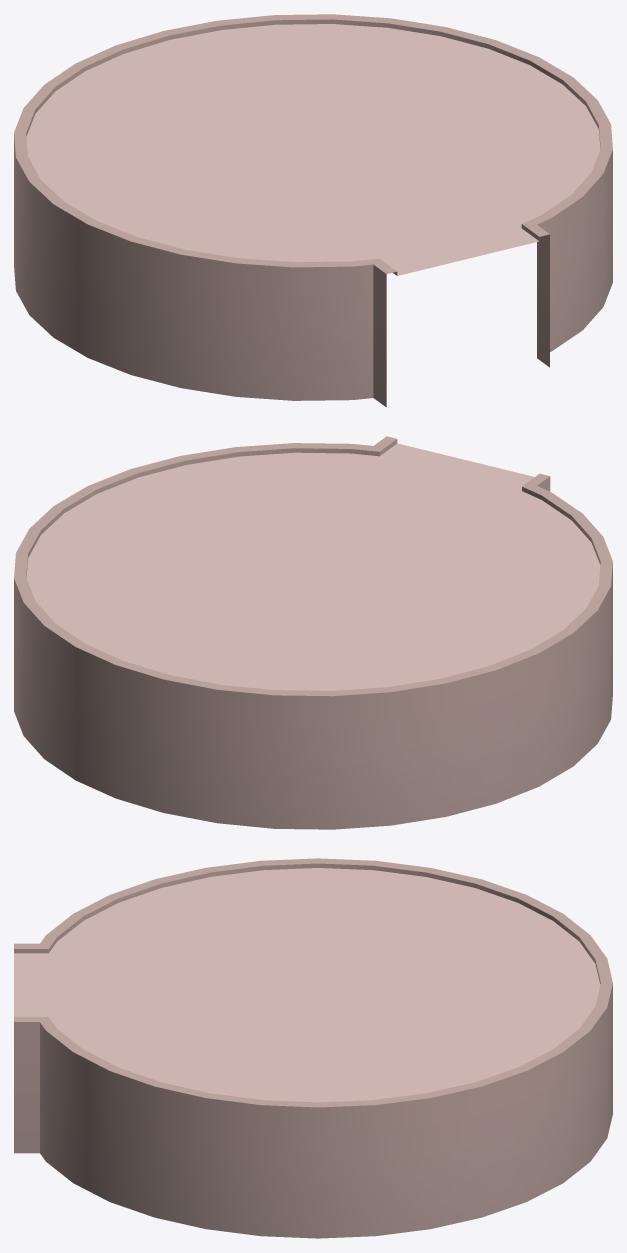
The model's file is Road_Arena.fbx.
The picture shows the model from 3 angles, top to bottom: view 1: azimuth 30°, elevation 25°; view 2: azimuth 150°, elevation 25°; view 3: azimuth 270°, elevation 25°; orthographic projection.
Parts seen in each view (by area): view 1: Cylinder.003; view 2: Cylinder.003; view 3: Cylinder.003.
Part boxes in pixels (x1,y1,x2,y2): Cylinder.003: (14, 14, 612, 407); Cylinder.003: (14, 436, 612, 829); Cylinder.003: (14, 858, 612, 1238).
Size of the model in its own units: 1225 by 301 by 1245.
